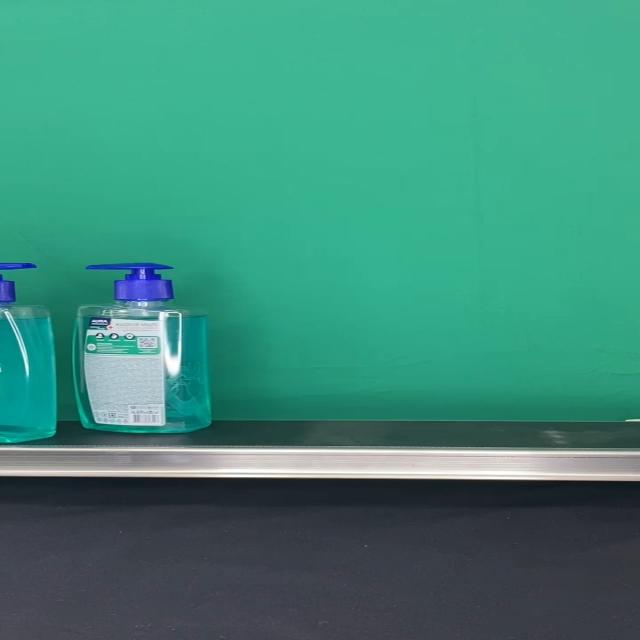Bottle: (72, 261, 212, 434)
Cap: (84, 262, 174, 302)
